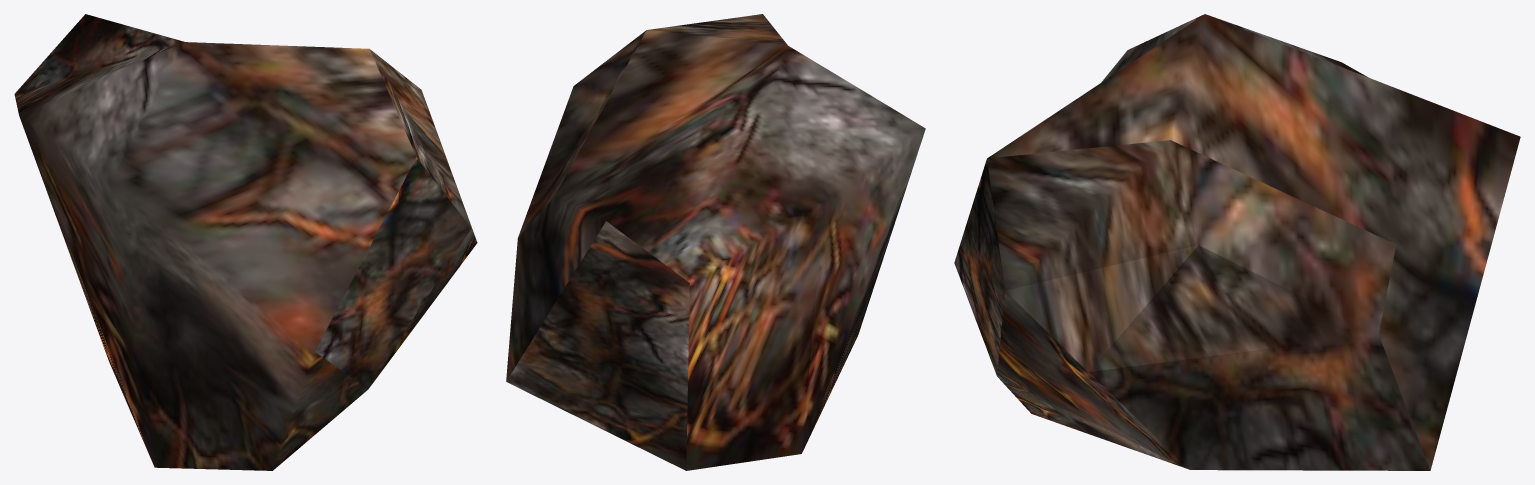
The model's file is golem_stone.glb.
3 views of the same model, side by side, from view 1: azimuth 30°, elevation 25°; view 2: azimuth 150°, elevation 25°; view 3: azimuth 270°, elevation 25° (orthographic). The views are drawn at different scales.
Parts seen in each view (by area): view 1: model_golem_stone; view 2: model_golem_stone; view 3: model_golem_stone.
Part boxes in pixels (box(x1,y1,x2,y2)): model_golem_stone: box(14, 14, 477, 470); model_golem_stone: box(506, 14, 925, 470); model_golem_stone: box(954, 14, 1520, 470).
Size of the model in its own units: 0.2536 by 0.296 by 0.3333.
Materials: 1 (1 with a texture image).
